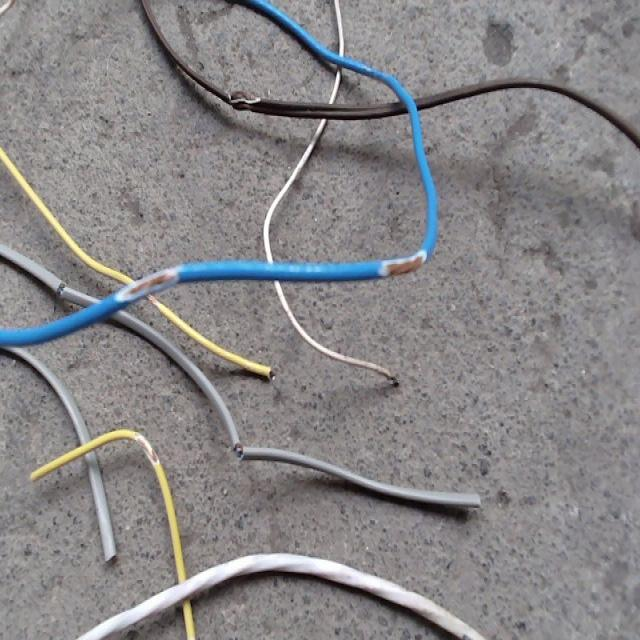-: (112, 265, 181, 299), (377, 248, 426, 276), (129, 429, 158, 464), (226, 88, 261, 115), (229, 439, 244, 460)
